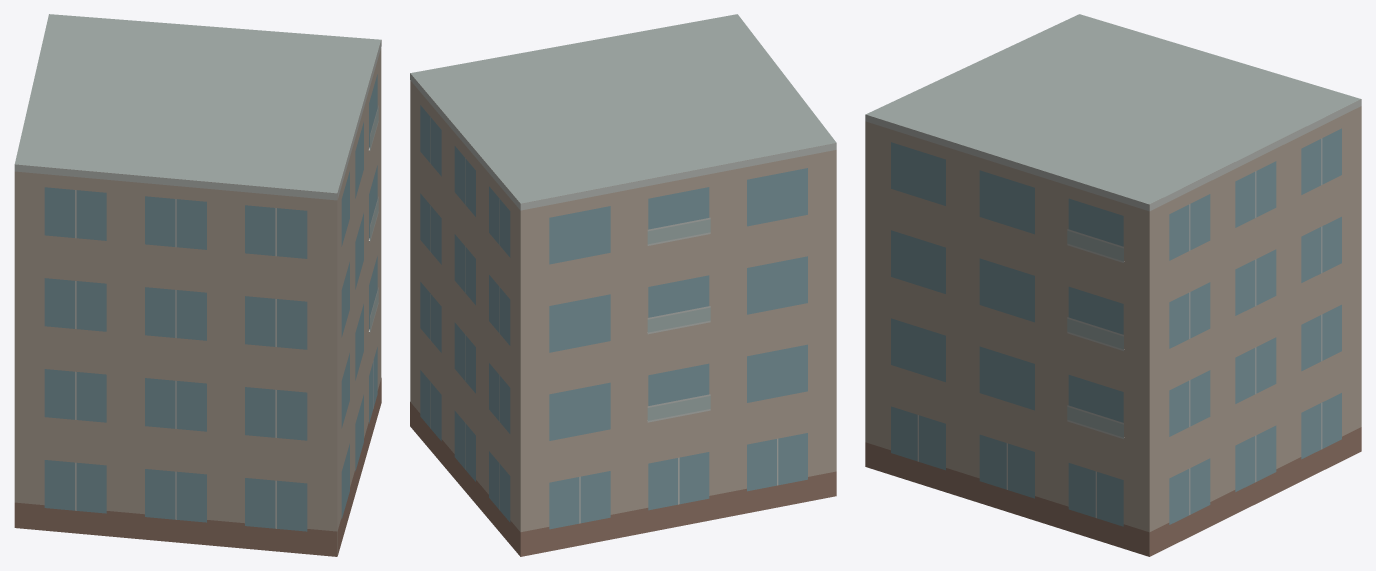
File: survey-upis-32887351.glb
The picture shows the model from 3 angles, left to right: view 1: azimuth 30°, elevation 25°; view 2: azimuth 150°, elevation 25°; view 3: azimuth 270°, elevation 25°; orthographic projection. The views are drawn at different scales.
Parts seen in each view (by area): view 1: survey-upis-32887351.tmp; view 2: survey-upis-32887351.tmp; view 3: survey-upis-32887351.tmp.
Boxes of the visible parts, left/top/right/bottom form: survey-upis-32887351.tmp: left=14, top=14, right=381, bottom=556; survey-upis-32887351.tmp: left=410, top=14, right=836, bottom=556; survey-upis-32887351.tmp: left=865, top=14, right=1361, bottom=556.
Bounding box in the file's own units: 14.51 × 12.5 × 15.96.
